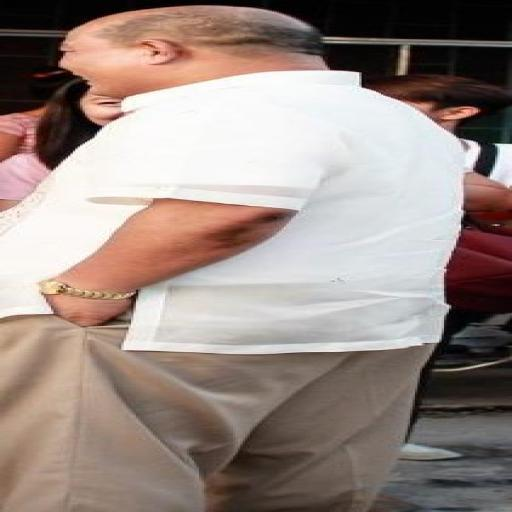person: (0, 6, 461, 511), (0, 79, 121, 210), (411, 308, 492, 433), (0, 66, 72, 160)
